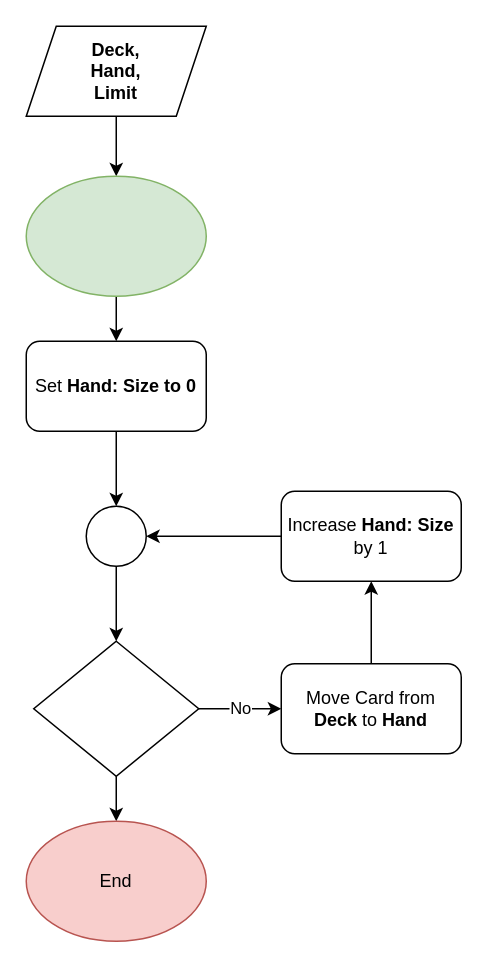
The diagram is 488 pixels wide and 968 high, and some of its shapes have lost their labels. Here are the shapes that lost their labels. From the top down, the box of each, then its label:
(25, 175, 206, 296): Start
(32, 640, 199, 776): Is Hand:Size > Limit?
